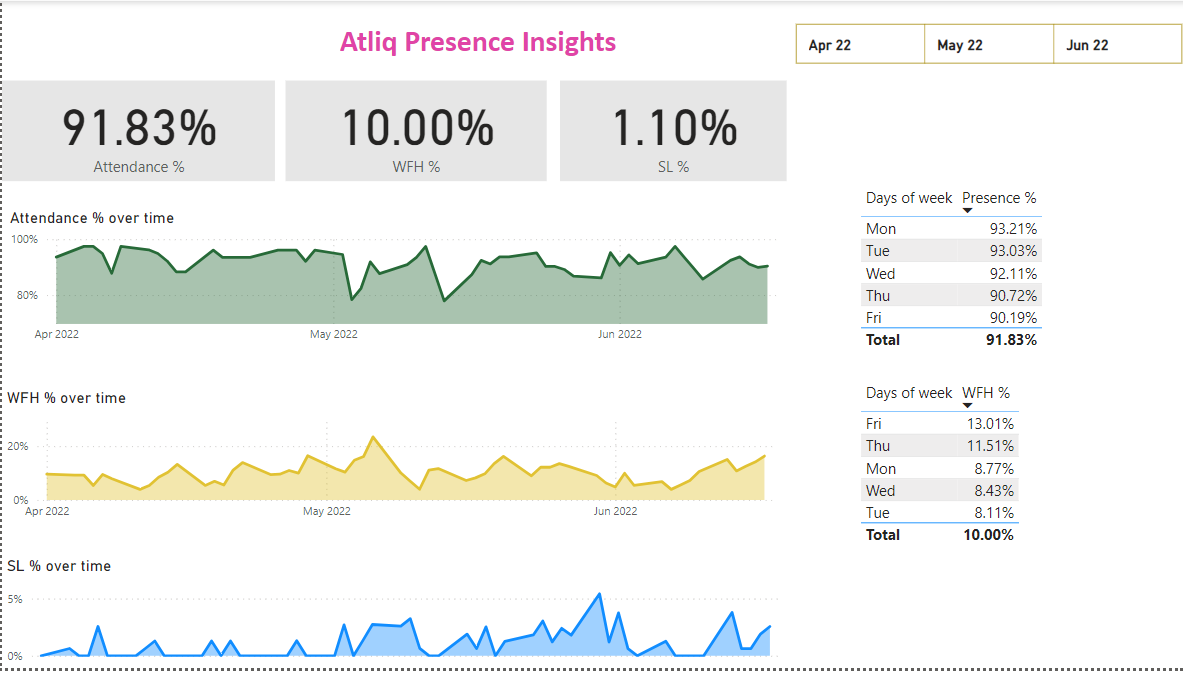

The page's visual inventory and layout, read from the dashboard file:
{"tool":"powerbi","page":{"name":"Duplicate of Page 1","canvas":[1280,720],"ordinal":1},"visuals":[{"type":"card","fields":{"Values":["Measure Table.Presence %"]},"box":[0,85.8,294.7,108.5],"z":0},{"type":"advancedSlicerVisual","fields":{"Values":["Final Data.Month"]},"box":[851.7,19.4,429.1,53.4],"z":1000},{"type":"card","fields":{"Values":["Measure Table.WFH %"]},"box":[306,85.8,281.7,108.5],"z":2000},{"type":"card","fields":{"Values":["Measure Table.SL %"]},"box":[602.4,85.8,244.5,108.5],"z":3000},{"type":"textbox","box":[359.5,17.8,333.6,55.1],"z":5000},{"type":"areaChart","title":"Attendance % over time","fields":{"Category":["Final Data.Date"],"Y":["Measure Table.Presence %"]},"box":[3.2,223.5,851.7,153.8],"z":7000},{"type":"areaChart","title":"WFH % over time","fields":{"Category":["Final Data.Date"],"Y":["Measure Table.WFH %"]},"box":[0,417.8,851.7,150.6],"z":8000},{"type":"areaChart","title":"SL % over time","fields":{"Category":["Final Data.Date"],"Y":["Measure Table.SL %"]},"box":[0,599.1,843.6,121.4],"z":9000},{"type":"tableEx","fields":{"Values":["Final Data.Days of week","Measure Table.Presence %"]},"box":[921.3,194.3,220.2,210.5],"z":10000},{"type":"tableEx","fields":{"Values":["Final Data.Days of week","Measure Table.WFH %"]},"box":[921.3,404.8,220.2,194.3],"z":11000}]}

Visuals, with their boxes in screenshot pixels (x1, y1, x2, y2), scaled from the page's 1280x720 canvas onto the 1183x676 screenshot:
card - Measure Table.Presence %: rect(0, 81, 272, 182)
advancedSlicerVisual - Final Data.Month: rect(787, 18, 1182, 68)
card - Measure Table.WFH %: rect(283, 81, 543, 182)
card - Measure Table.SL %: rect(557, 81, 783, 182)
textbox: rect(332, 17, 641, 68)
"Attendance % over time" areaChart: rect(3, 210, 790, 354)
"WFH % over time" areaChart: rect(0, 392, 787, 534)
"SL % over time" areaChart: rect(0, 562, 780, 675)
tableEx - Final Data.Days of week x Measure Table.Presence %: rect(851, 182, 1055, 380)
tableEx - Final Data.Days of week x Measure Table.WFH %: rect(851, 380, 1055, 562)
